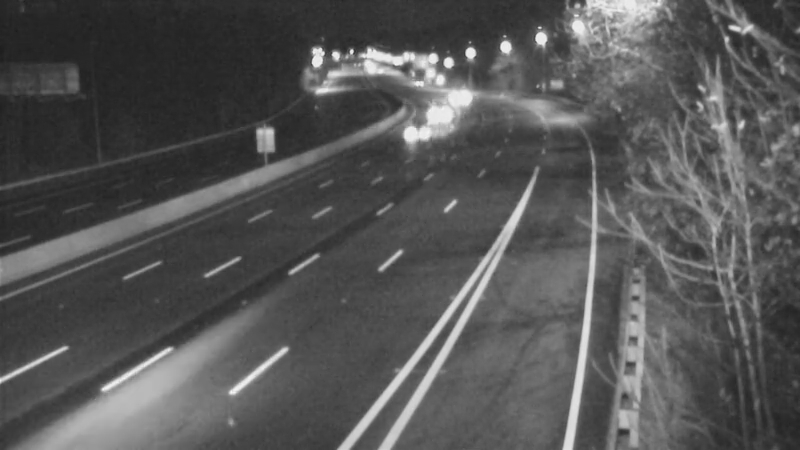vehicle: (391, 58, 441, 108), (427, 67, 477, 117), (411, 88, 461, 138), (389, 109, 439, 159)
